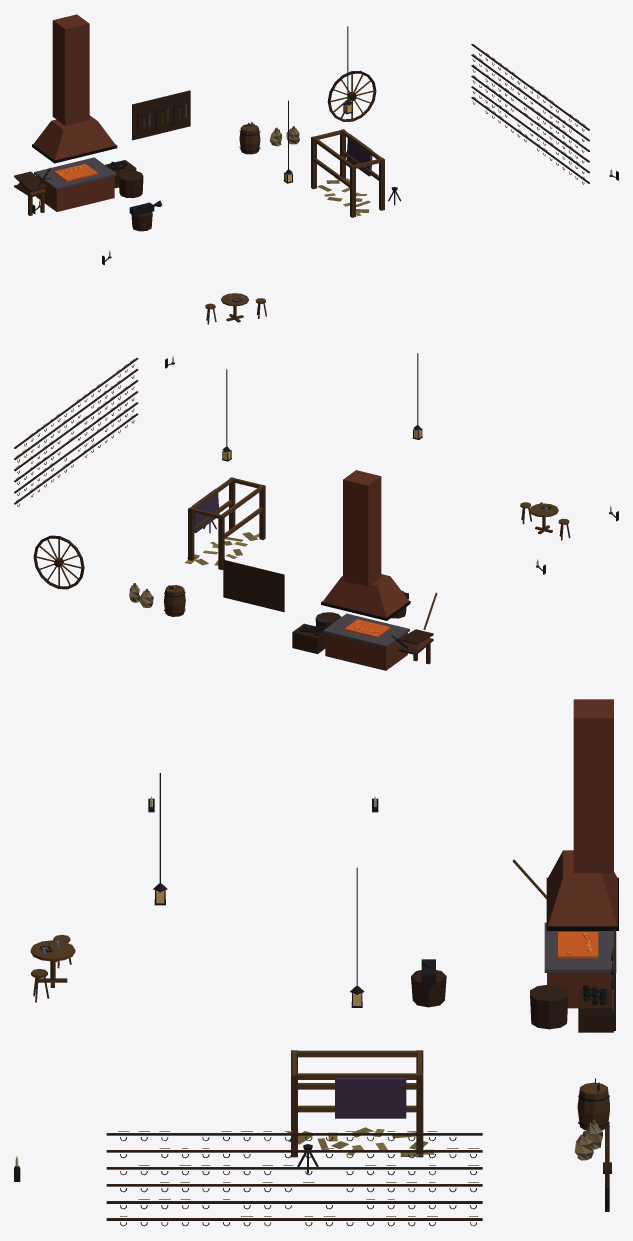
The model's file is ferriers-yard.glb.
The picture shows the model from 3 angles, top to bottom: view 1: azimuth 30°, elevation 25°; view 2: azimuth 150°, elevation 25°; view 3: azimuth 270°, elevation 25°; orthographic projection. The views are drawn at different scales.
Parts seen in each view (by area): view 1: ferriers-yard; view 2: ferriers-yard; view 3: ferriers-yard.
Boxes of the visible parts, x1,y1,x2,y2 form: ferriers-yard: [14, 14, 618, 324]; ferriers-yard: [14, 353, 618, 670]; ferriers-yard: [14, 699, 618, 1226].
Size of the model in its own units: 19.59 by 6.83 by 13.52.
